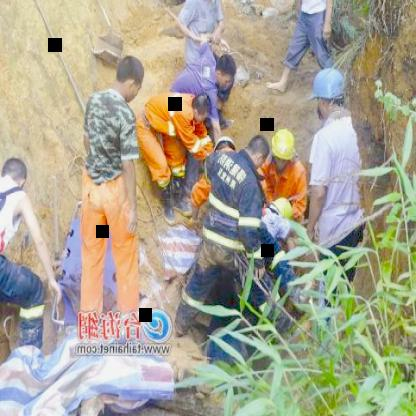head: (110, 54, 146, 110), (1, 152, 29, 197), (214, 48, 240, 88), (244, 134, 271, 170), (190, 92, 212, 121)
helmet: (312, 64, 348, 119), (268, 127, 298, 176), (264, 196, 298, 228), (214, 132, 238, 164)
